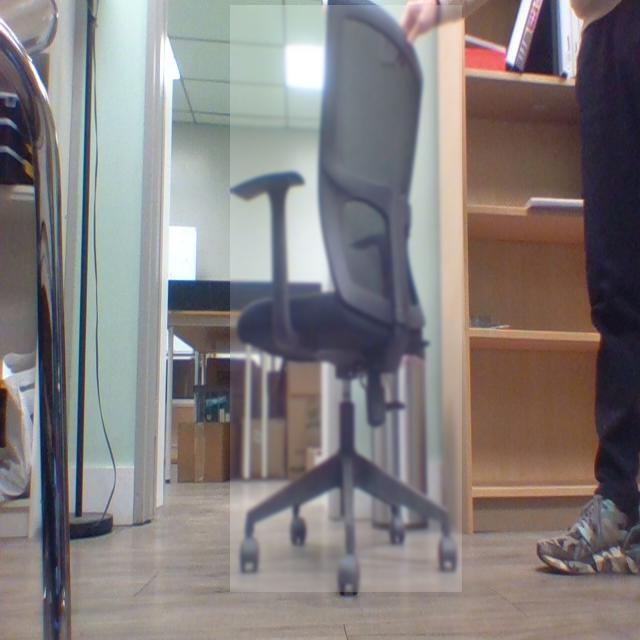chair: (227, 0, 474, 605)
light: (253, 31, 340, 105), (170, 23, 191, 105)
table: (175, 281, 342, 485)
